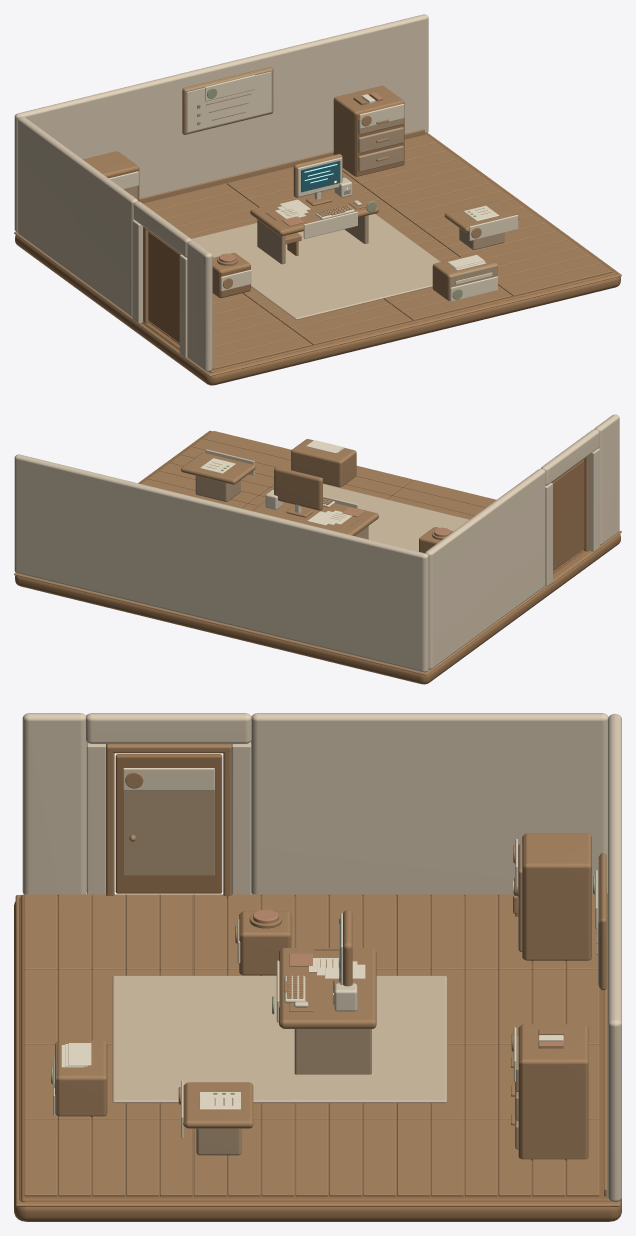
File: qi07-room.glb
3 renders of one model, top to bottom at view 1: azimuth 30°, elevation 25°; view 2: azimuth 150°, elevation 25°; view 3: azimuth 270°, elevation 25°, orthographic. The views are drawn at different scales.
Visible parts, largest first — view 1: Back wall, Left wall rear, Central woven rug, Cutaway foundation, Left wall front pier, Permission door, Board face, Skills file cabinet copper shell, Grid floor, Copper foundation rim, Central desk copper shell, Door lintel (+54 smaller); view 2: Back wall, Left wall rear, Cutaway foundation, Central woven rug, Permission door, Left wall front pier, Document intake copper shell, Copper foundation rim, PC monitor honey oak casing, Central desk copper shell, Door lintel, Helper work surface copper shell (+16 smaller); view 3: Left wall rear, Central woven rug, Cutaway foundation, Left wall front pier, Grid floor, Skills file cabinet copper shell, Instruction safe copper shell, Door inset panel, Back wall, Permission door, Door lintel, Central desk copper shell (+62 smaller).
Part boxes in pixels (left/top/right/bottom): Back wall: left=14, top=14, right=428, bottom=232; Left wall rear: left=17, top=116, right=137, bottom=317; Central woven rug: left=191, top=214, right=440, bottom=319; Cutaway foundation: left=15, top=235, right=620, bottom=385; Left wall front pier: left=187, top=240, right=212, bottom=371; Permission door: left=148, top=232, right=179, bottom=342; Board face: left=187, top=71, right=271, bottom=132; Skills file cabinet copper shell: left=333, top=85, right=404, bottom=176; Grid floor: left=142, top=133, right=617, bottom=372; Copper foundation rim: left=14, top=133, right=621, bottom=376; Central desk copper shell: left=250, top=189, right=378, bottom=236; Door lintel: left=133, top=201, right=191, bottom=257; Back wall: left=14, top=454, right=428, bottom=672; Left wall rear: left=425, top=468, right=545, bottom=669; Cutaway foundation: left=15, top=534, right=620, bottom=684; Central woven rug: left=323, top=484, right=468, bottom=551; Permission door: left=552, top=460, right=584, bottom=571; Left wall front pier: left=594, top=414, right=619, bottom=545; Document intake copper shell: left=291, top=439, right=356, bottom=487; Copper foundation rim: left=14, top=430, right=621, bottom=675; PC monitor honey oak casing: left=274, top=467, right=322, bottom=510; Central desk copper shell: left=252, top=501, right=378, bottom=535; Door lintel: left=541, top=429, right=599, bottom=485; Helper work surface copper shell: left=181, top=452, right=255, bottom=484; Left wall rear: left=251, top=713, right=608, bottom=896; Central woven rug: left=112, top=975, right=446, bottom=1103; Cutaway foundation: left=14, top=897, right=621, bottom=1221; Left wall front pier: left=22, top=713, right=86, bottom=896; Grid floor: left=21, top=894, right=611, bottom=1201; Skills file cabinet copper shell: left=520, top=1024, right=588, bottom=1160; Instruction safe copper shell: left=524, top=833, right=591, bottom=961; Door inset panel: left=123, top=789, right=214, bottom=875; Back wall: left=608, top=714, right=621, bottom=1202; Permission door: left=115, top=754, right=222, bottom=893; Door lintel: left=86, top=713, right=251, bottom=743; Central desk copper shell: left=281, top=948, right=376, bottom=1028.
Size of the model in its own units: 11.9 by 3.61 by 9.8.
